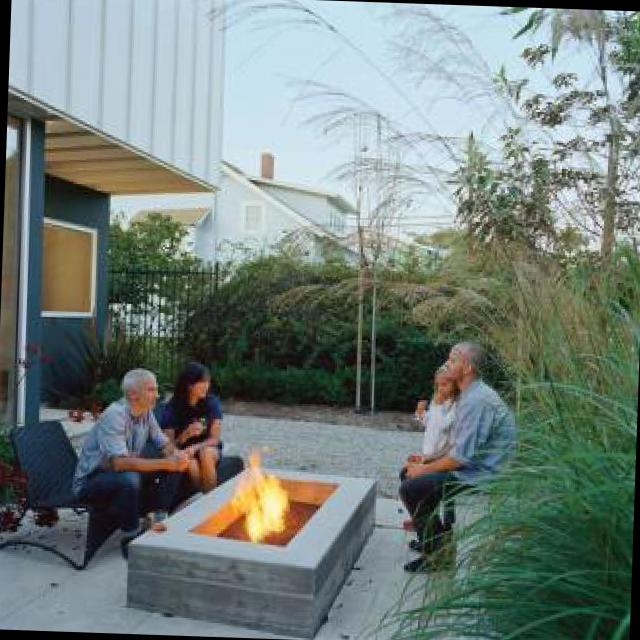Fire: (235, 442, 298, 556)
